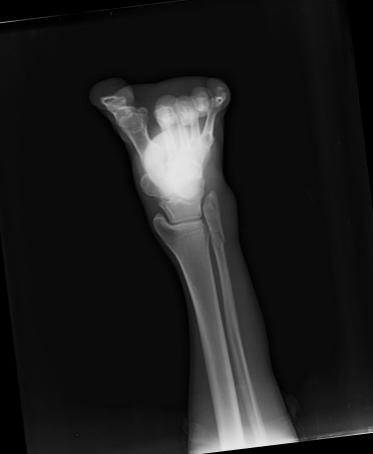fractured: (206, 222, 227, 259)
